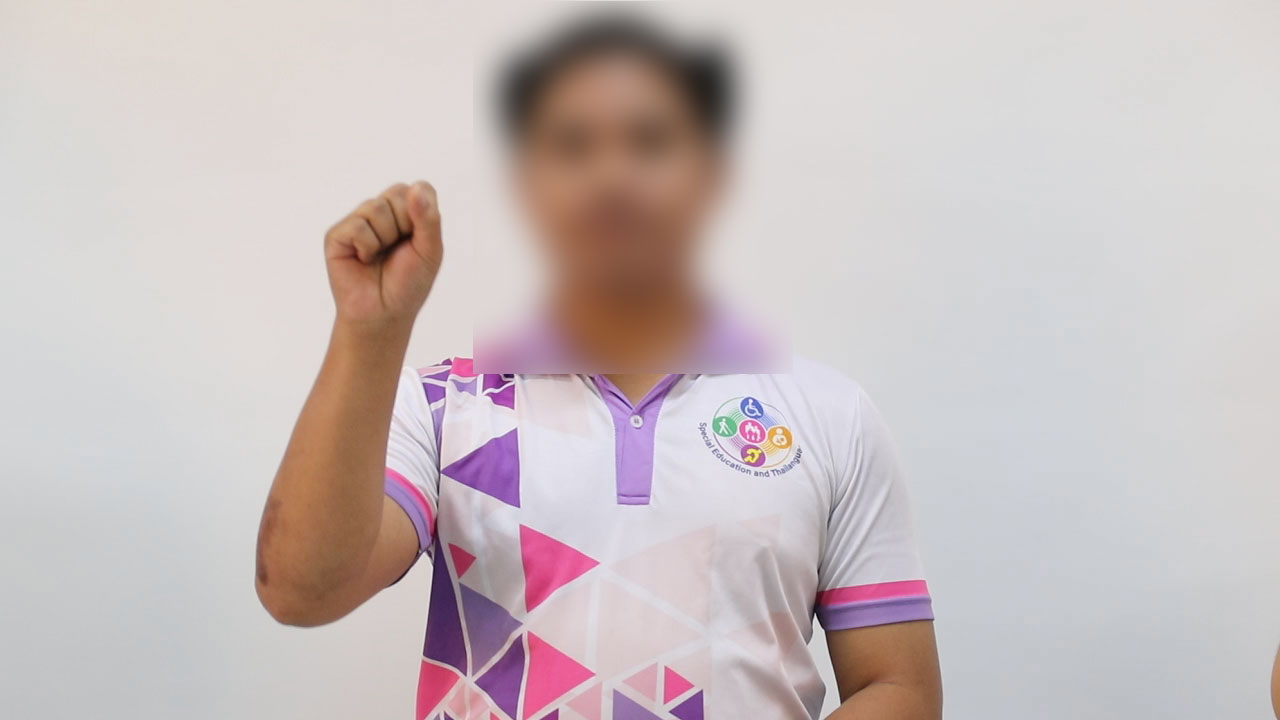sor: (308, 161, 460, 355)
